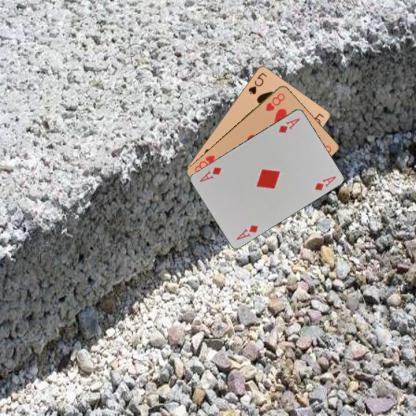5s: (245, 70, 268, 95)
8h: (263, 90, 286, 112)
Ad: (234, 222, 259, 241), (276, 116, 301, 134)
